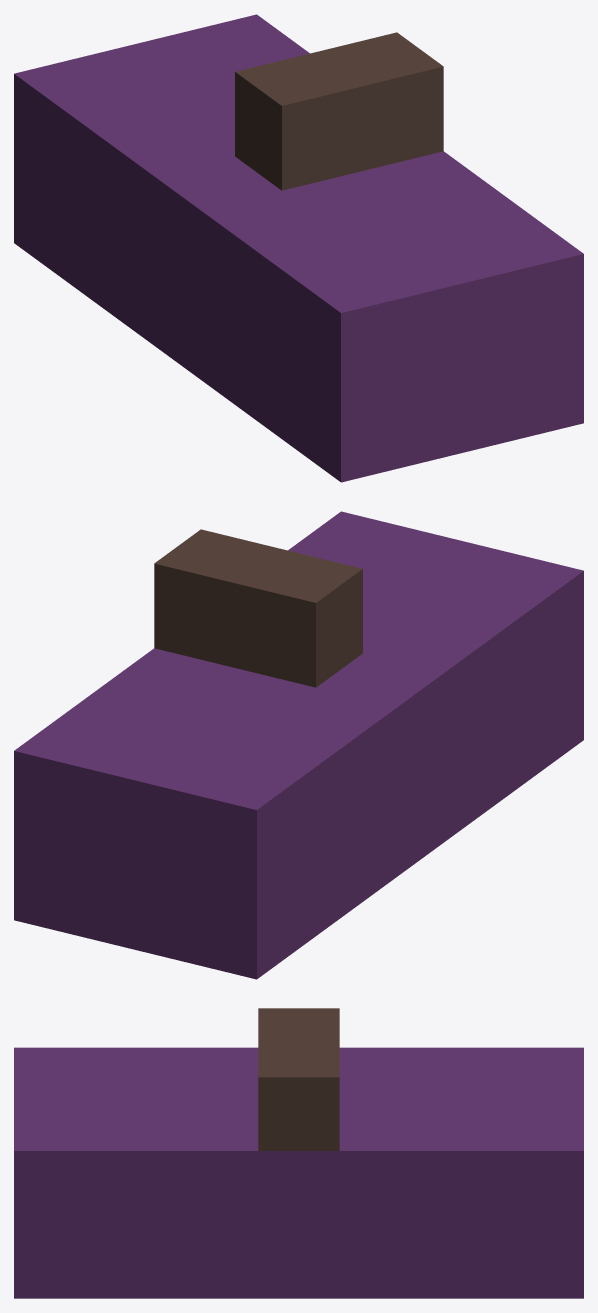
File: mystic_epic_boot_foot_L_lod1.glb
3 renders of one model, top to bottom at view 1: azimuth 30°, elevation 25°; view 2: azimuth 150°, elevation 25°; view 3: azimuth 270°, elevation 25°, orthographic. The views are drawn at different scales.
Visible parts, largest first — view 1: mystic_epic_boot_foot_L_lod1; view 2: mystic_epic_boot_foot_L_lod1; view 3: mystic_epic_boot_foot_L_lod1.
Boxes of the visible parts, x1,y1,x2,y2 form: mystic_epic_boot_foot_L_lod1: (14, 14, 583, 482); mystic_epic_boot_foot_L_lod1: (14, 511, 583, 979); mystic_epic_boot_foot_L_lod1: (14, 1008, 583, 1298).
Size of the model in its own units: 0.144 by 0.144 by 0.336.
